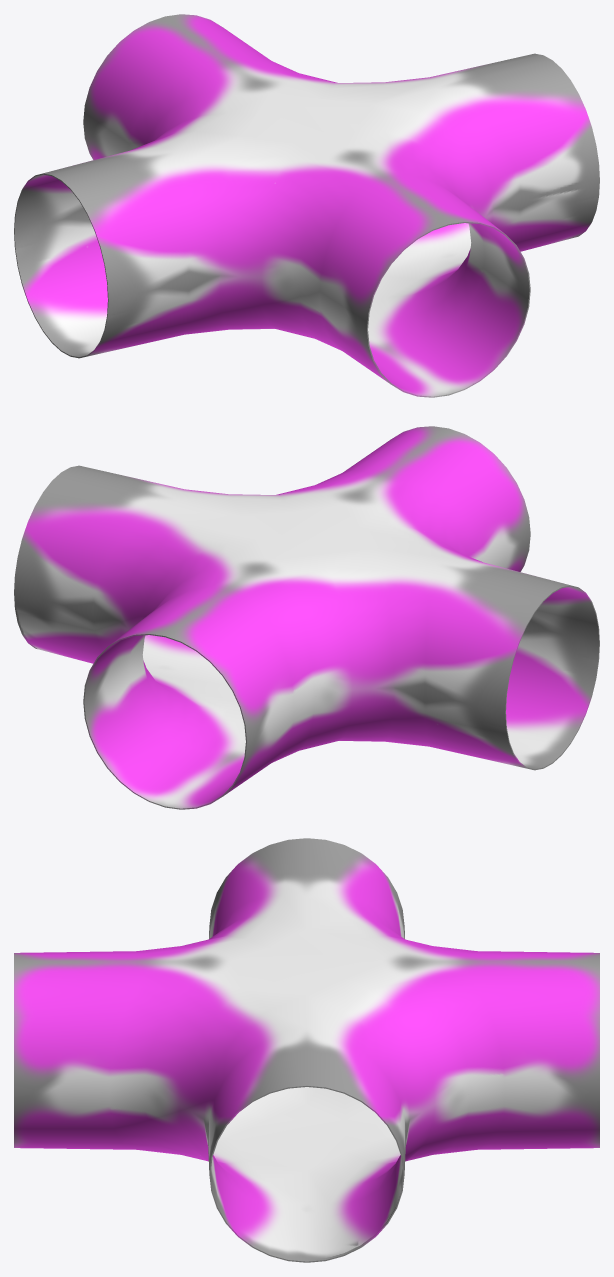
The model's file is Cross junction.fbx.
The picture shows the model from 3 angles, top to bottom: view 1: azimuth 30°, elevation 25°; view 2: azimuth 150°, elevation 25°; view 3: azimuth 270°, elevation 25°; orthographic projection. The views are drawn at different scales.
Parts seen in each view (by area): view 1: Cross-intersect tube.002; view 2: Cross-intersect tube.002; view 3: Cross-intersect tube.002.
Boxes of the visible parts, bbox=[...] form: Cross-intersect tube.002: bbox=[14, 14, 599, 397]; Cross-intersect tube.002: bbox=[14, 426, 599, 809]; Cross-intersect tube.002: bbox=[14, 838, 599, 1262].
Size of the model in its own units: 1800 by 600 by 1800.
